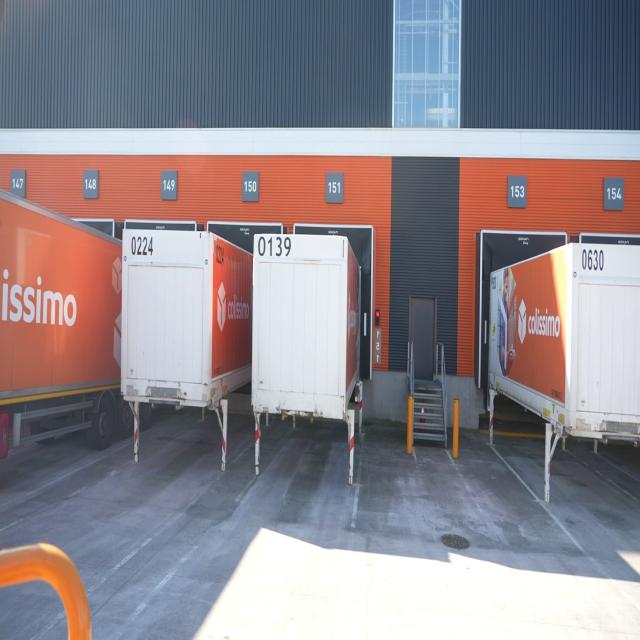Code: (255, 233, 293, 265), (579, 245, 607, 277), (128, 232, 156, 258)
